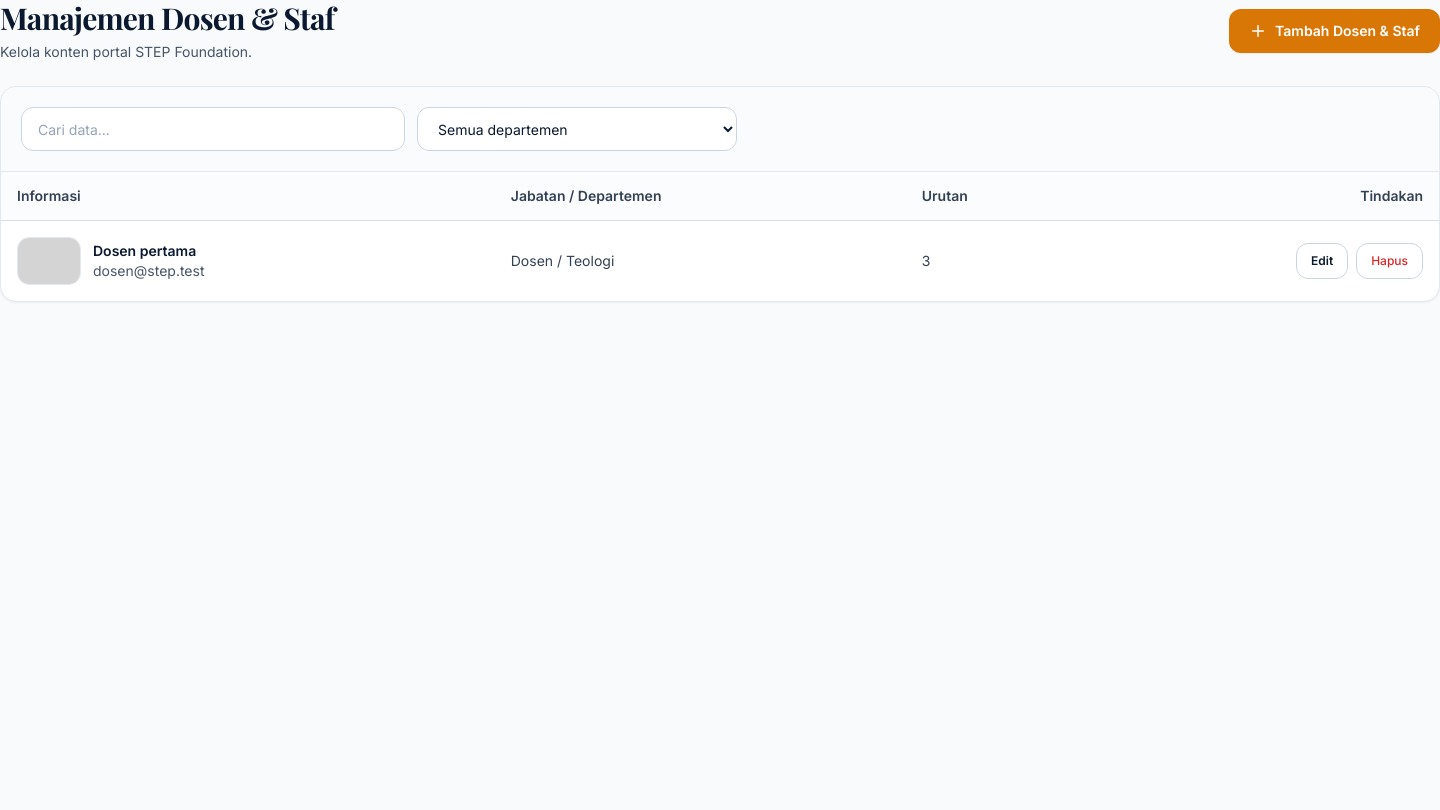
Scenario: faculty deletion requires confirmation, refreshes the shared list, and supports cancellation
Expected: the text "Dosen pertama" is shown, [93,240,204,260]
Click the button "Hapus": (1390, 260) [1356,242,1423,278]
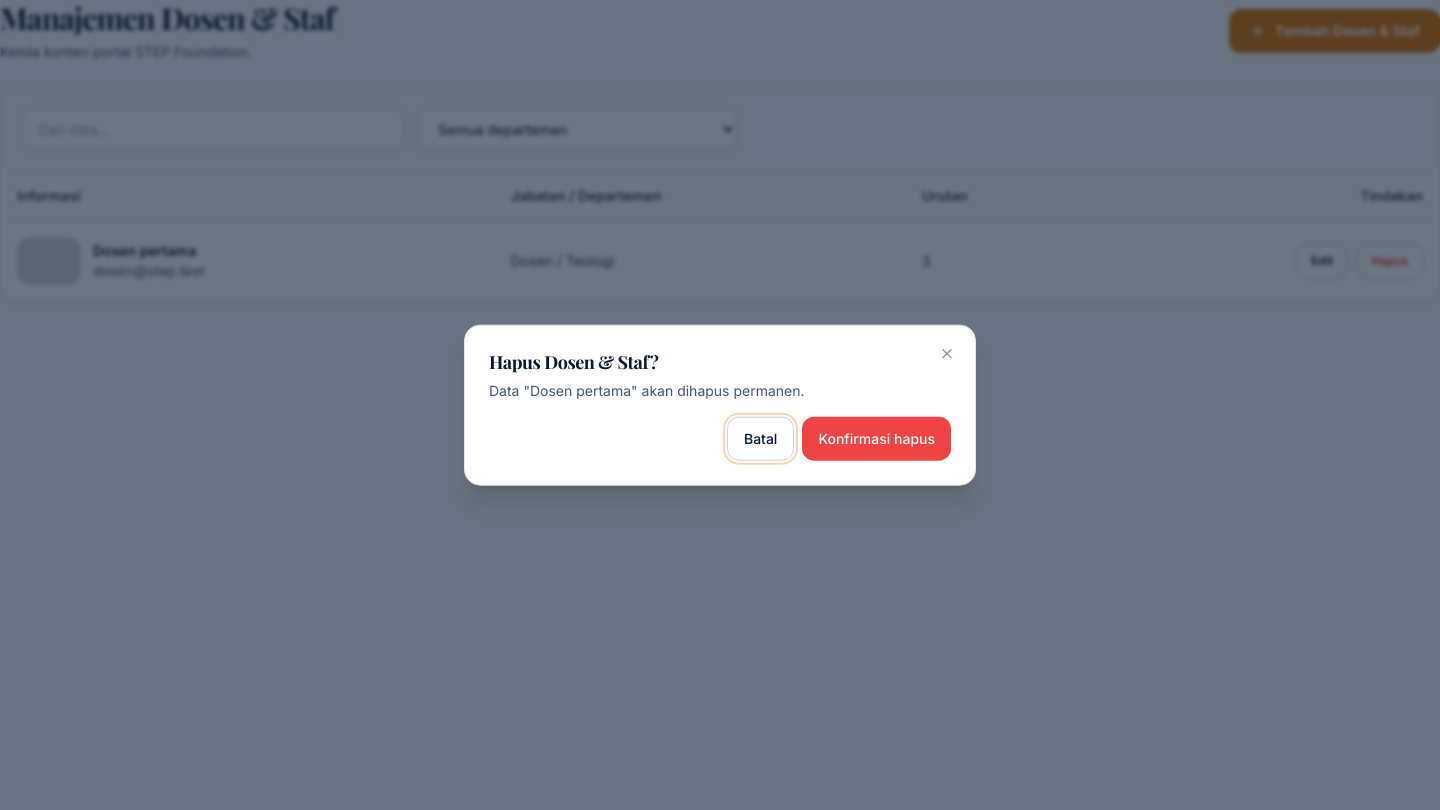
Click the button "Batal": (761, 438) [727,416,794,460]
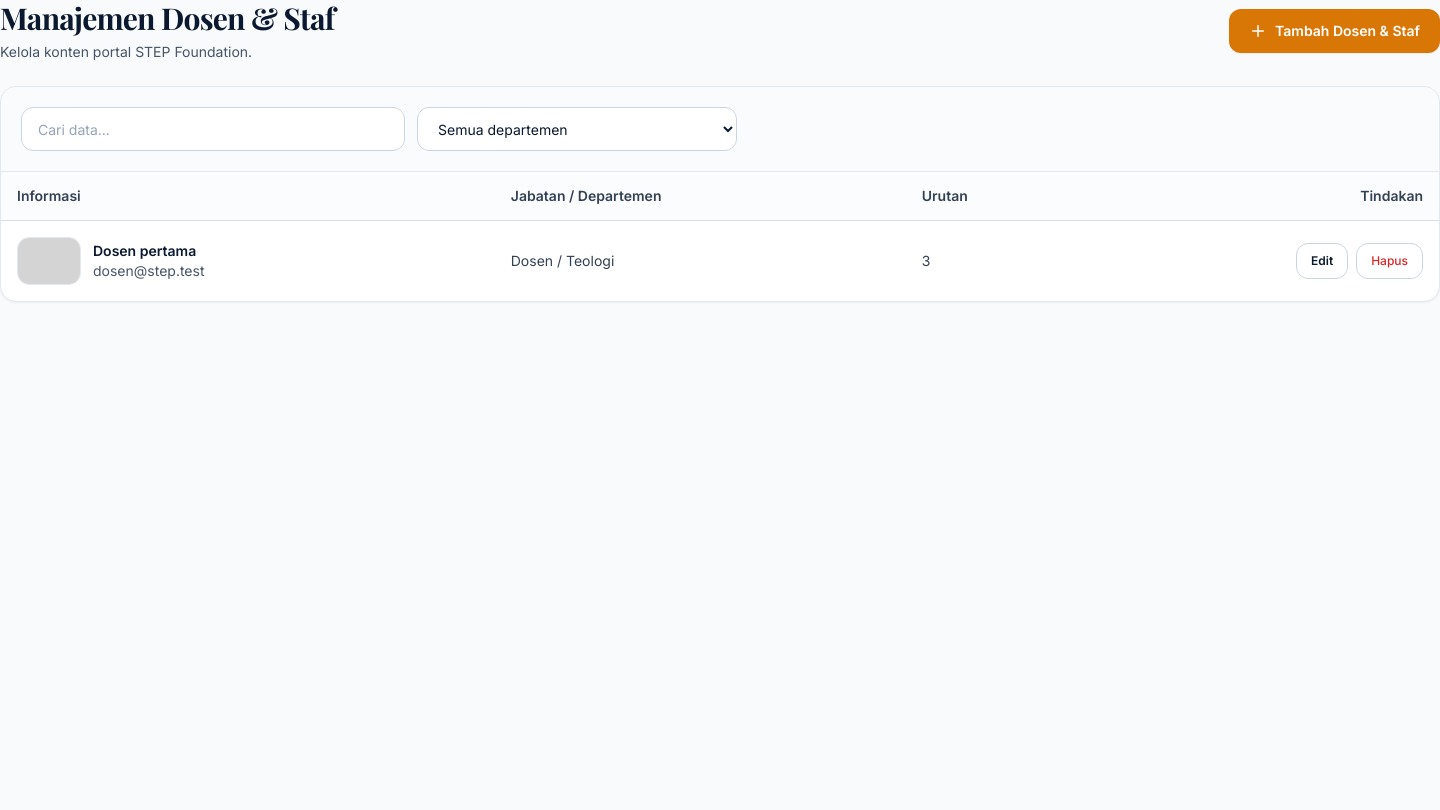
Click the button "Hapus": (1390, 260) [1356,242,1423,278]
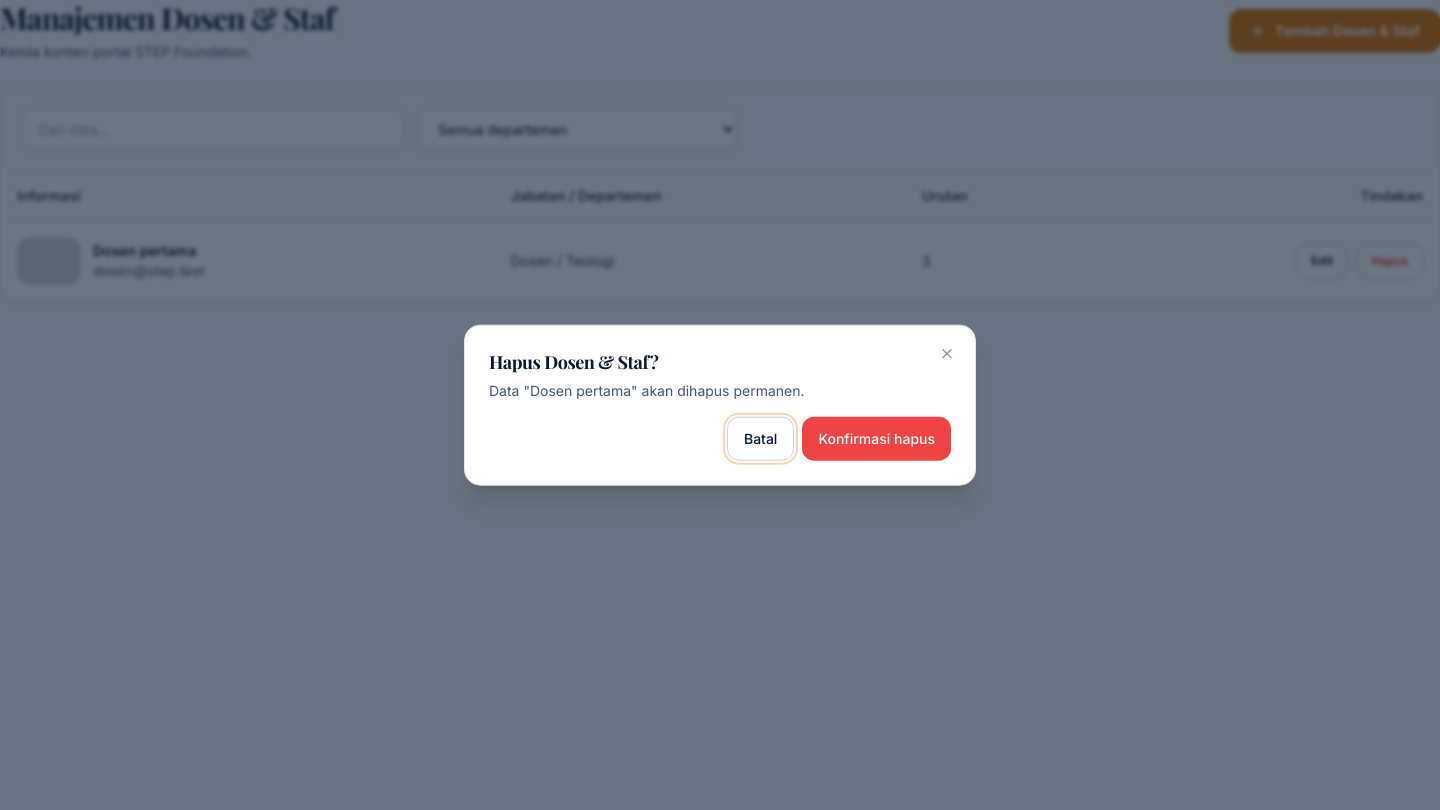
Click the button "Konfirmasi hapus": (877, 438) [802,416,951,460]
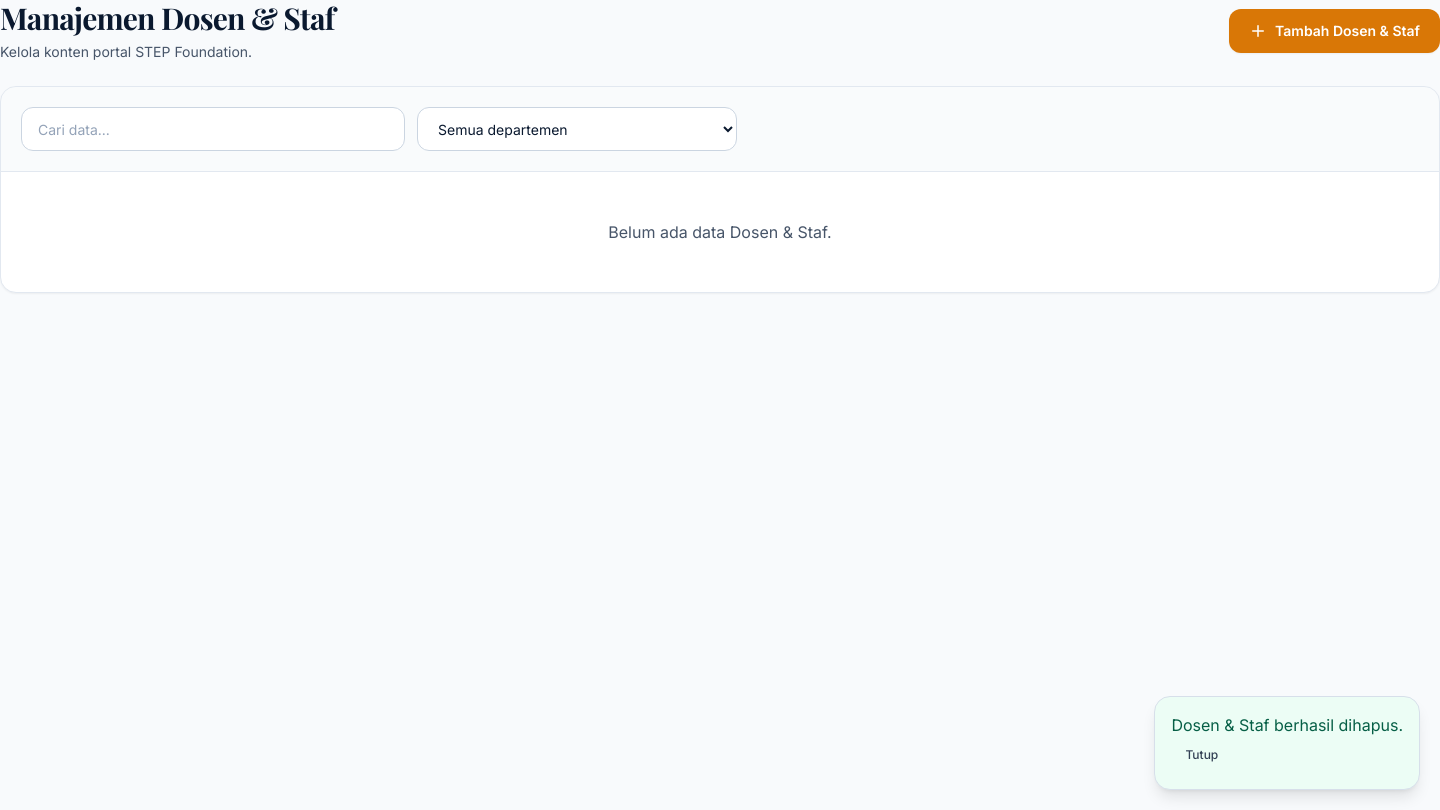
Result: the text "Belum ada data Dosen & Staf." is shown at [608,222,832,242]
